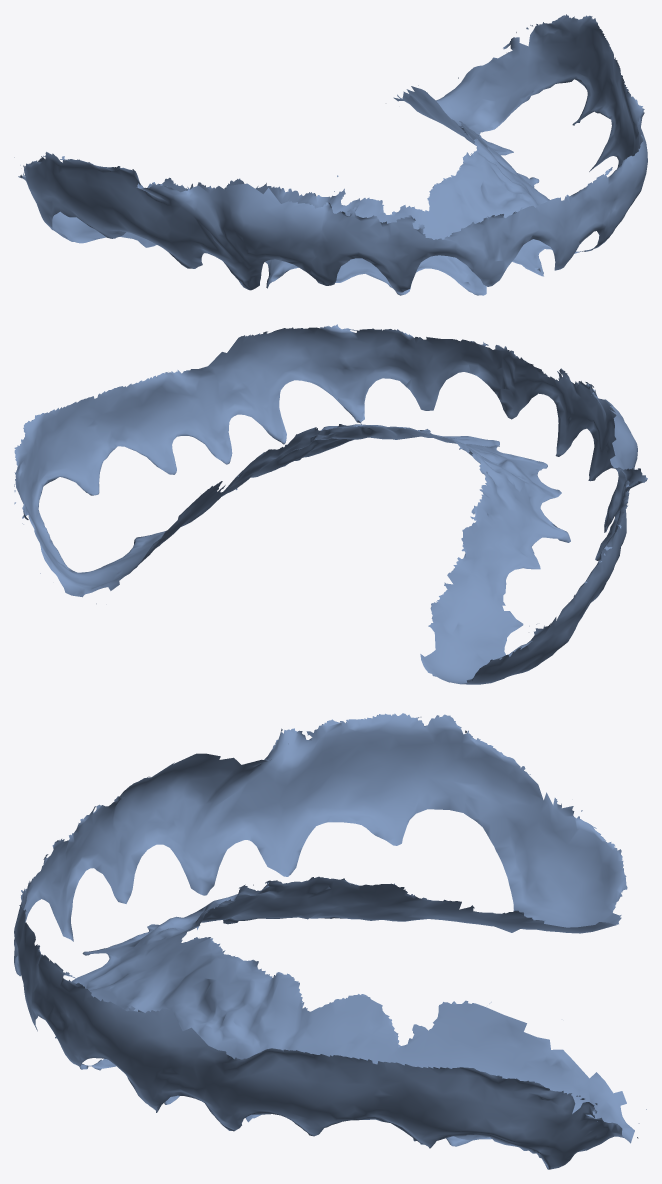
The model's file is Gums.glb.
3 renders of one model, top to bottom at view 1: azimuth 30°, elevation 25°; view 2: azimuth 150°, elevation 25°; view 3: azimuth 270°, elevation 25°, orthographic. The views are drawn at different scales.
Visible parts, largest first — view 1: IOS UPPER; view 2: IOS UPPER; view 3: IOS UPPER.
Boxes of the visible parts, bbox=[...] form: IOS UPPER: bbox=[14, 14, 647, 295]; IOS UPPER: bbox=[14, 324, 647, 684]; IOS UPPER: bbox=[14, 713, 646, 1169].
Bounding box in the file's own units: 71.75 × 19.34 × 55.83.
